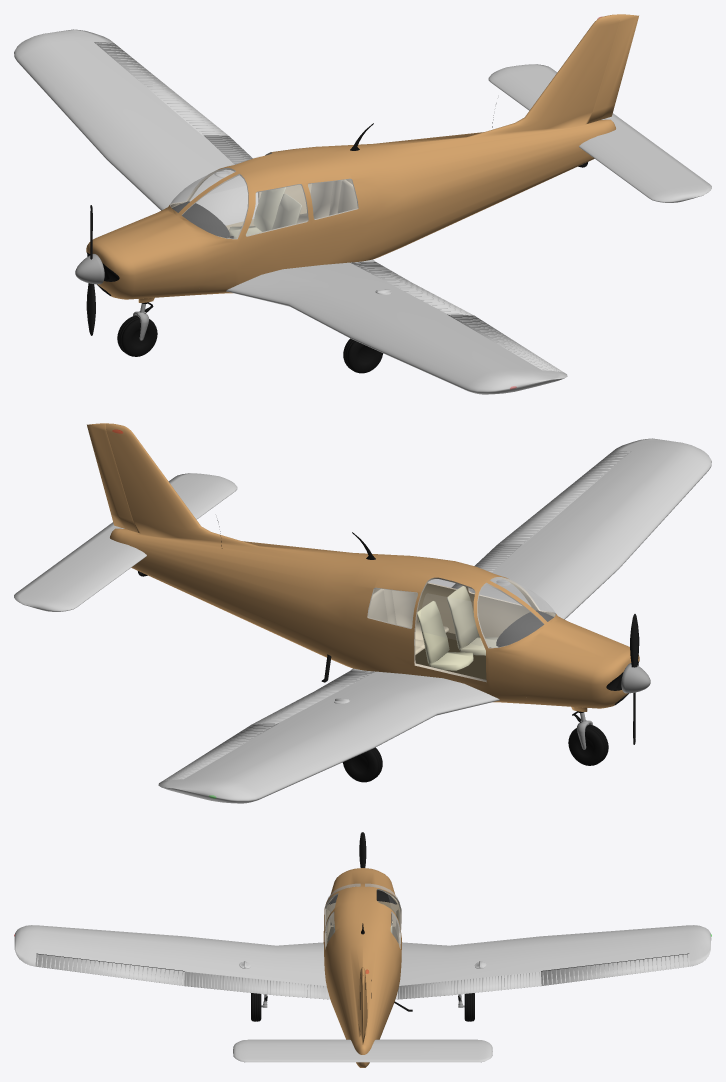
3 renders of one model, top to bottom at view 1: azimuth 30°, elevation 25°; view 2: azimuth 150°, elevation 25°; view 3: azimuth 270°, elevation 25°, orthographic. The views are drawn at different scales.
Visible parts, largest first — view 1: fuselage, ailes, vitres, ailes2, aileronD, direction, rearseats, voletG, aileronG, roueA, seat.001, roueG (+5 smaller); view 2: fuselage, ailes, ailes2, vitres, interieur, aileronG, direction, seat.001, intvitreporteG, rearseats, seat, voletD (+9 smaller); view 3: ailes, fuselage, ailes2, aileronG, aileronD, voletG, voletD, vitres, direction.
Part boxes in pixels (x1,y1,x2,y2): fuselage: (86, 14, 619, 299); ailes: (14, 29, 567, 394); vitres: (170, 168, 358, 238); ailes2: (488, 64, 711, 202); aileronD: (94, 42, 228, 135); direction: (589, 14, 638, 123); rearseats: (297, 179, 357, 223); voletG: (350, 262, 473, 315); aileronG: (447, 314, 563, 372); roueA: (117, 315, 157, 356); seat.001: (229, 187, 285, 238); roueG: (343, 338, 383, 373); fuselage: (106, 423, 639, 708); ailes: (158, 438, 711, 803); ailes2: (14, 473, 237, 611); vitres: (367, 577, 555, 647); interieur: (373, 580, 555, 637); aileronG: (497, 451, 631, 544); direction: (87, 423, 136, 532); seat.001: (417, 601, 473, 670); intvitreporteG: (420, 594, 481, 645); rearseats: (368, 588, 448, 654); seat: (447, 586, 498, 655); voletD: (252, 671, 375, 724); ailes: (14, 925, 711, 999); fuselage: (323, 868, 401, 1067); ailes2: (233, 1039, 492, 1062); aileronG: (35, 954, 184, 985); aileronD: (541, 954, 690, 985); voletG: (184, 971, 327, 999); voletD: (398, 971, 541, 999); vitres: (325, 883, 400, 948); direction: (360, 975, 365, 1044).
Bounding box in the file's own units: 715 × 273 × 1055.
